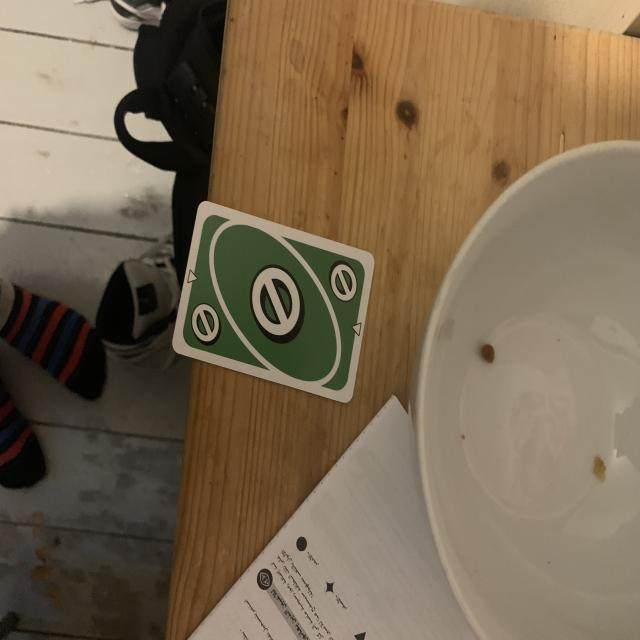lgreenskip-20: (324, 260, 364, 310)
